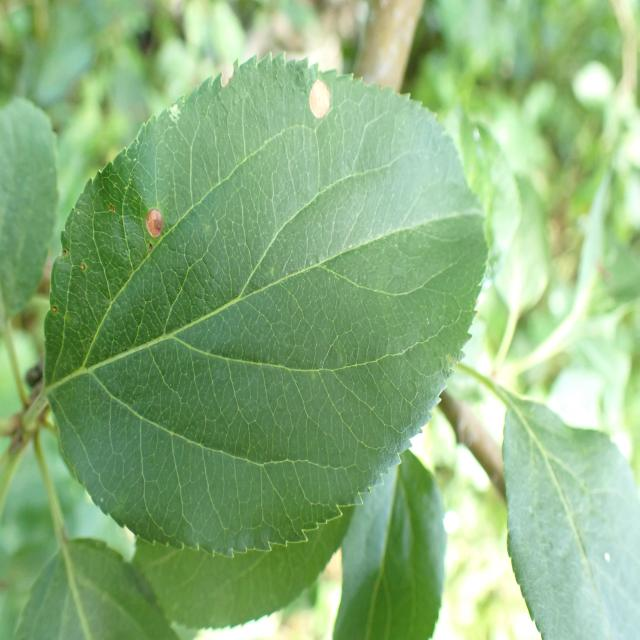Black Rot: (289, 57, 353, 142), (135, 176, 176, 273)
